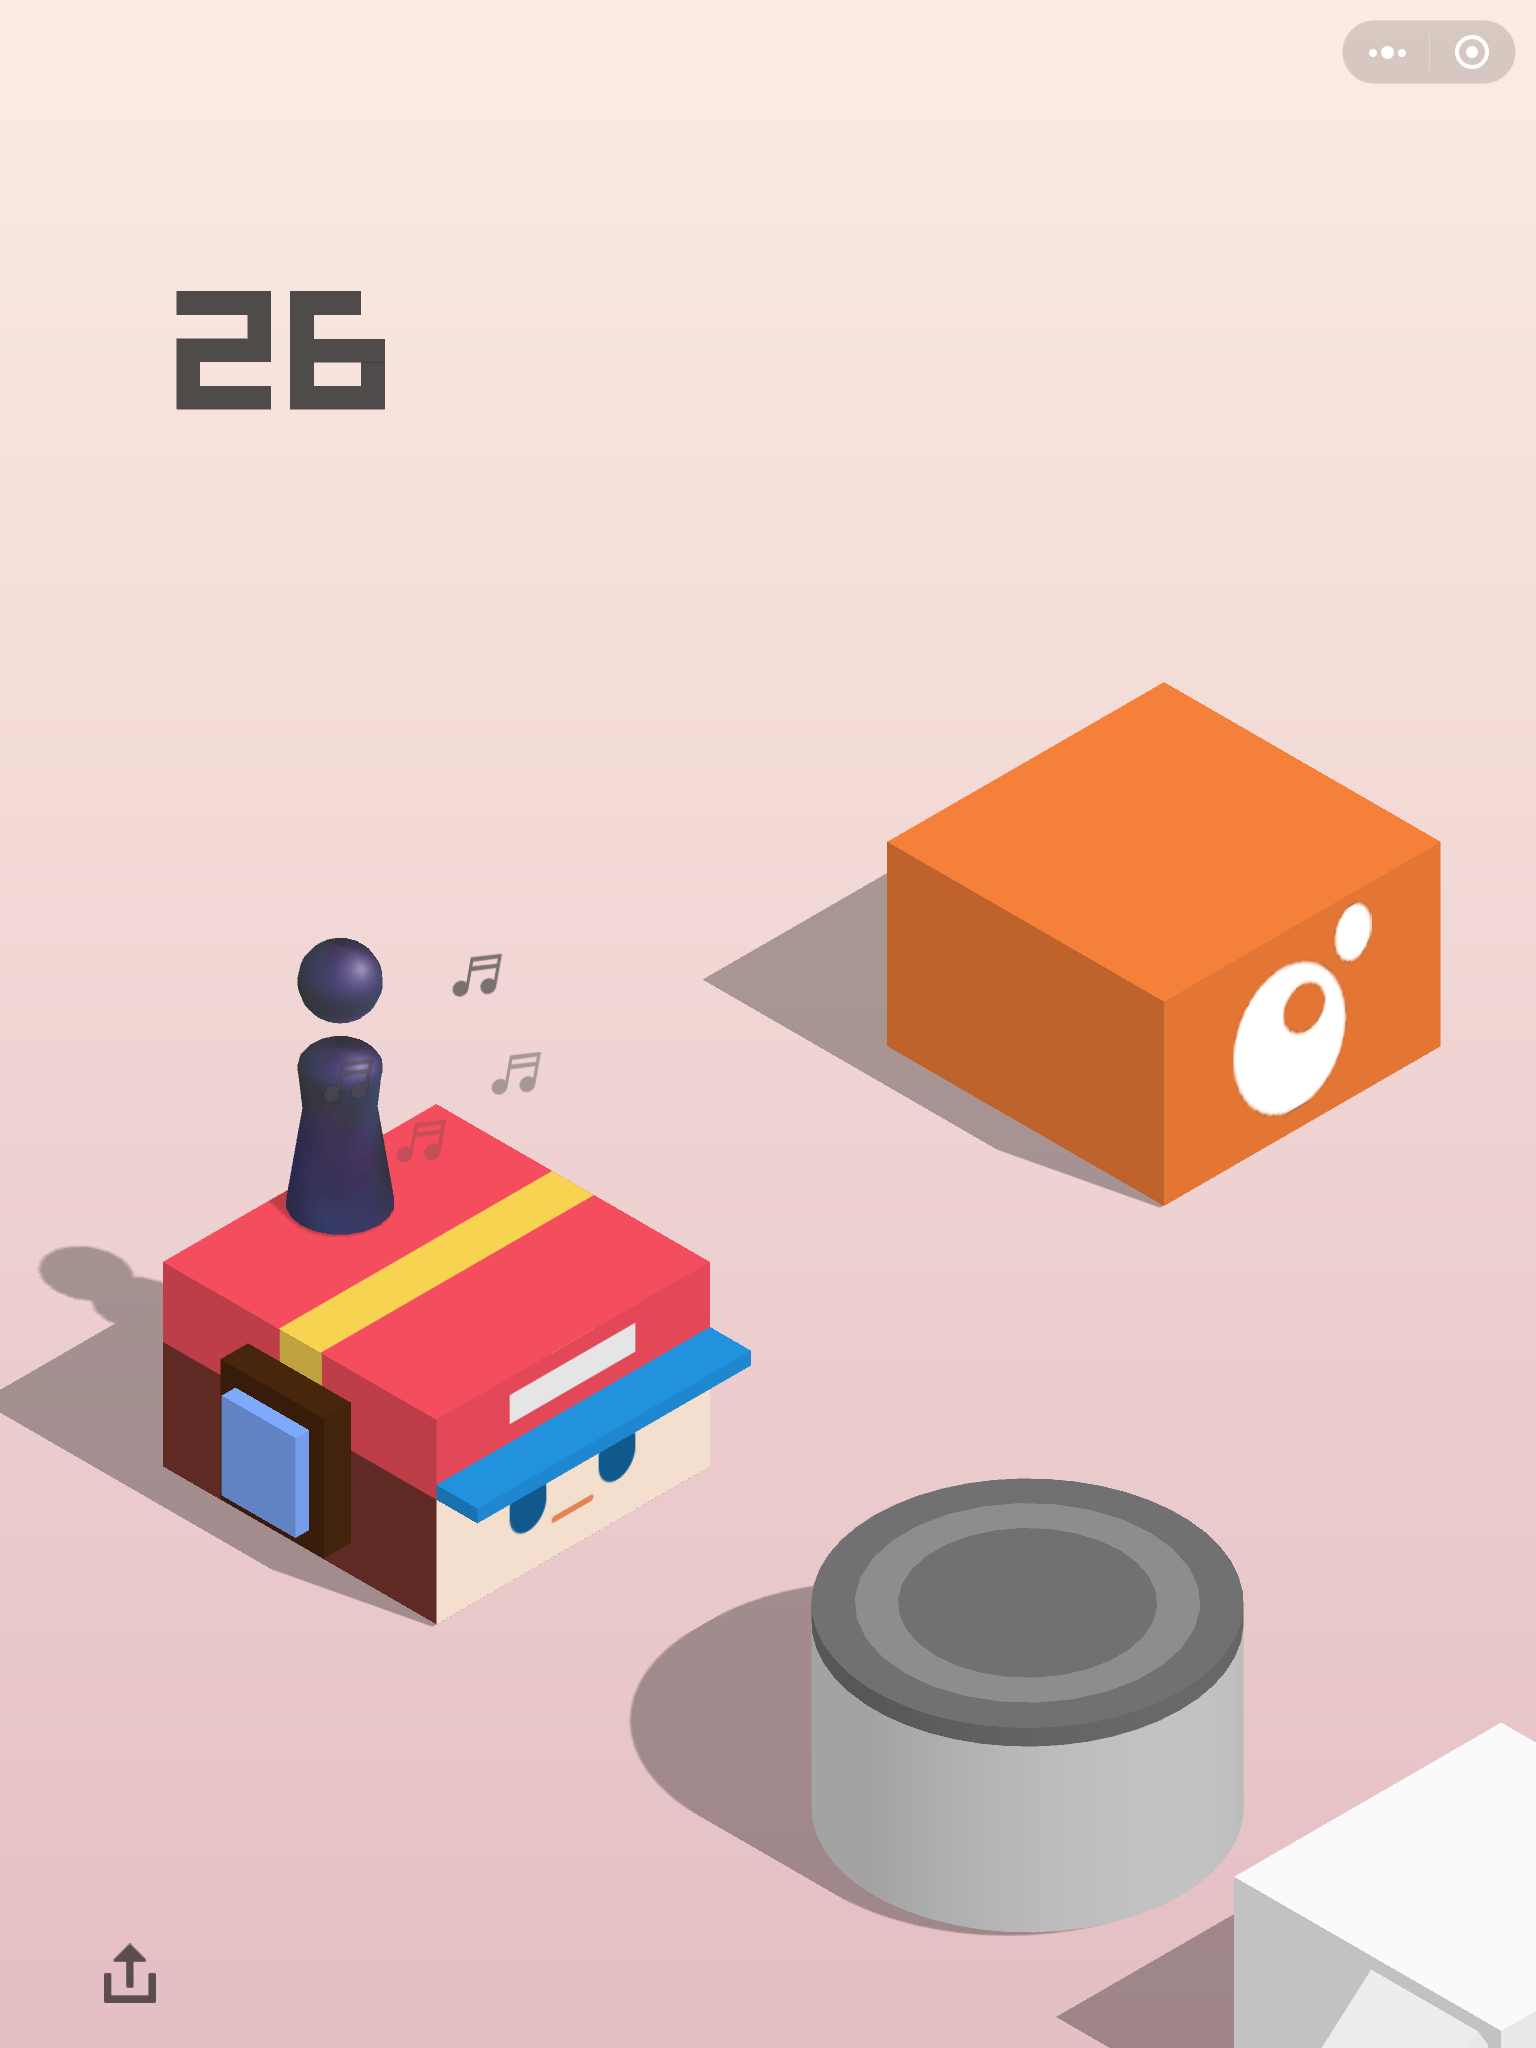c: (799, 1459, 1252, 1948)
f: (153, 1092, 765, 1651), (881, 679, 1450, 1222), (1221, 1719, 1533, 2048)
r: (278, 934, 399, 1235)
